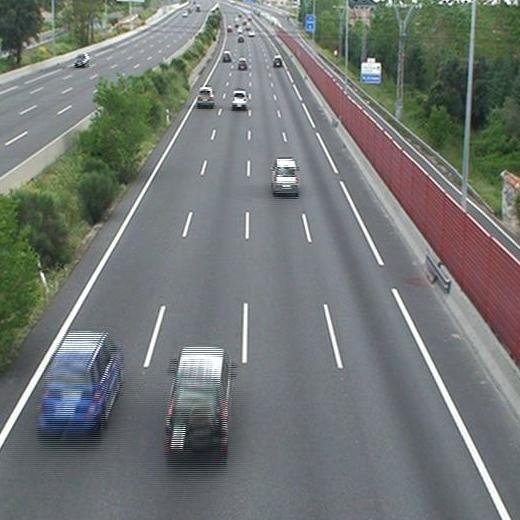car: (41, 333, 116, 425), (166, 348, 229, 453), (273, 158, 299, 192), (197, 87, 215, 106), (232, 90, 247, 108), (237, 58, 247, 70), (274, 56, 283, 66), (221, 51, 230, 61)
